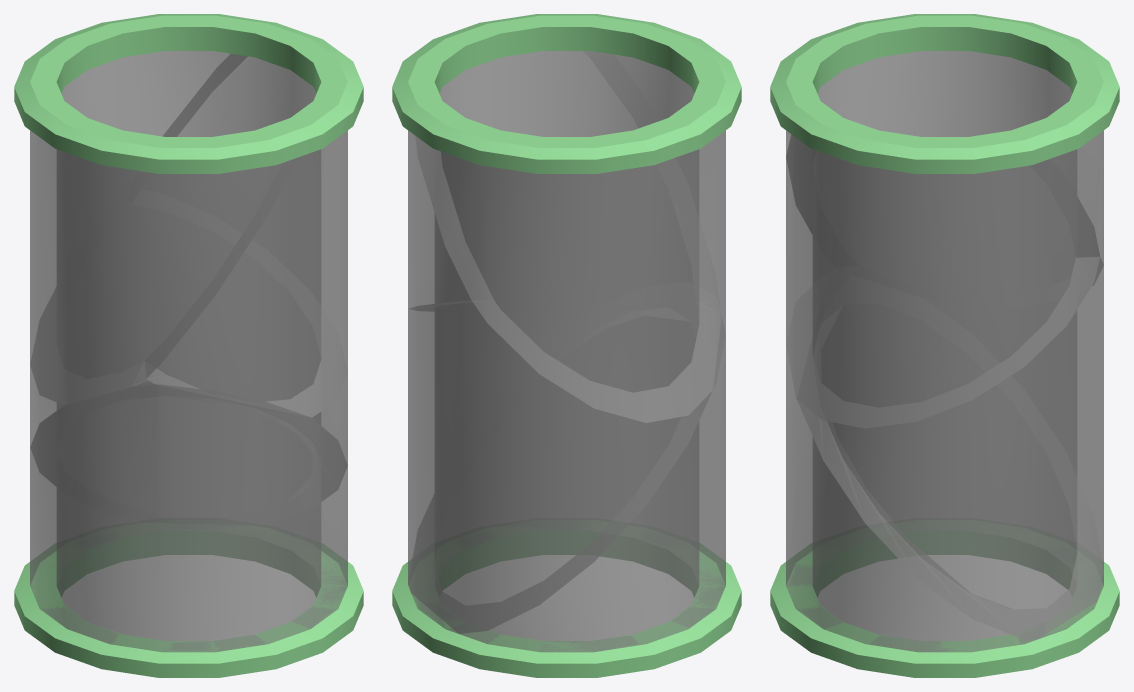
File: Entity_PipeStraight-bkn.FBX
The picture shows the model from 3 angles, left to right: view 1: azimuth 30°, elevation 25°; view 2: azimuth 150°, elevation 25°; view 3: azimuth 270°, elevation 25°; orthographic projection.
Parts seen in each view (by area): view 1: Object001_Part_3, Object001_Part_2, Object001_Part_4, Object001_Part_1, Tube001, Object002; view 2: Object001_Part_2, Object001_Part_4, Object001_Part_3, Object001_Part_1, Tube001, Object002; view 3: Object001_Part_2, Object001_Part_1, Object001_Part_3, Object001_Part_4, Tube001, Object002.
Part boxes in pixels (box(x1,y1,x2,y2)): Object001_Part_3: box(30, 384, 347, 652); Object001_Part_2: box(30, 205, 347, 516); Object001_Part_4: box(30, 51, 299, 405); Object001_Part_1: box(133, 54, 347, 417); Tube001: box(14, 14, 363, 173); Object002: box(14, 531, 363, 677); Object001_Part_2: box(408, 299, 721, 633); Object001_Part_4: box(415, 51, 725, 422); Object001_Part_3: box(408, 316, 725, 652); Object001_Part_1: box(408, 51, 718, 311); Tube001: box(392, 14, 741, 173); Object002: box(392, 531, 741, 677); Object001_Part_2: box(797, 257, 1103, 639); Object001_Part_1: box(786, 134, 1100, 428); Object001_Part_3: box(786, 287, 1103, 652); Object001_Part_4: box(786, 51, 1103, 294); Tube001: box(770, 14, 1119, 173); Object002: box(770, 531, 1119, 677).
Bounding box in the file's own units: 65 × 110 × 66.
